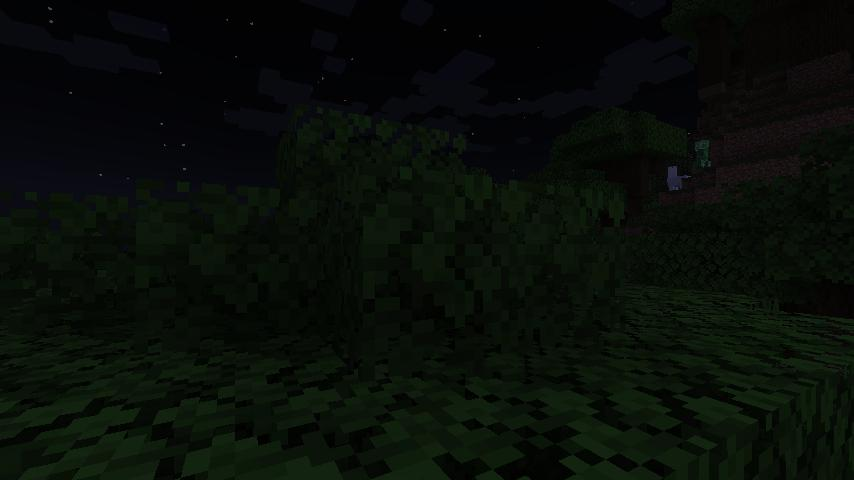creeper: (692, 137, 713, 171)
llama: (664, 162, 690, 192)
